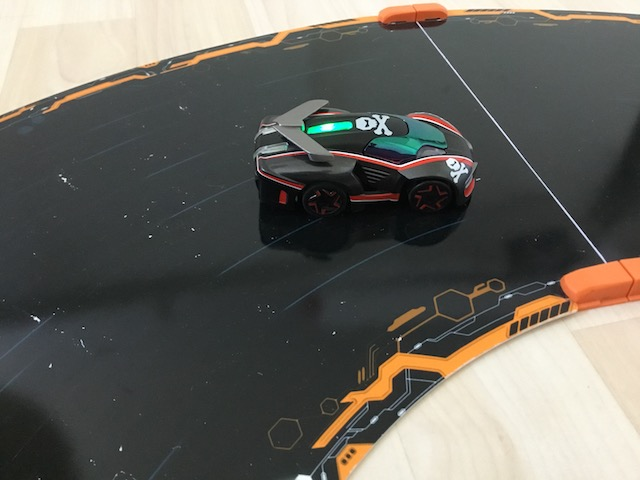car-red: (250, 94, 482, 224)
